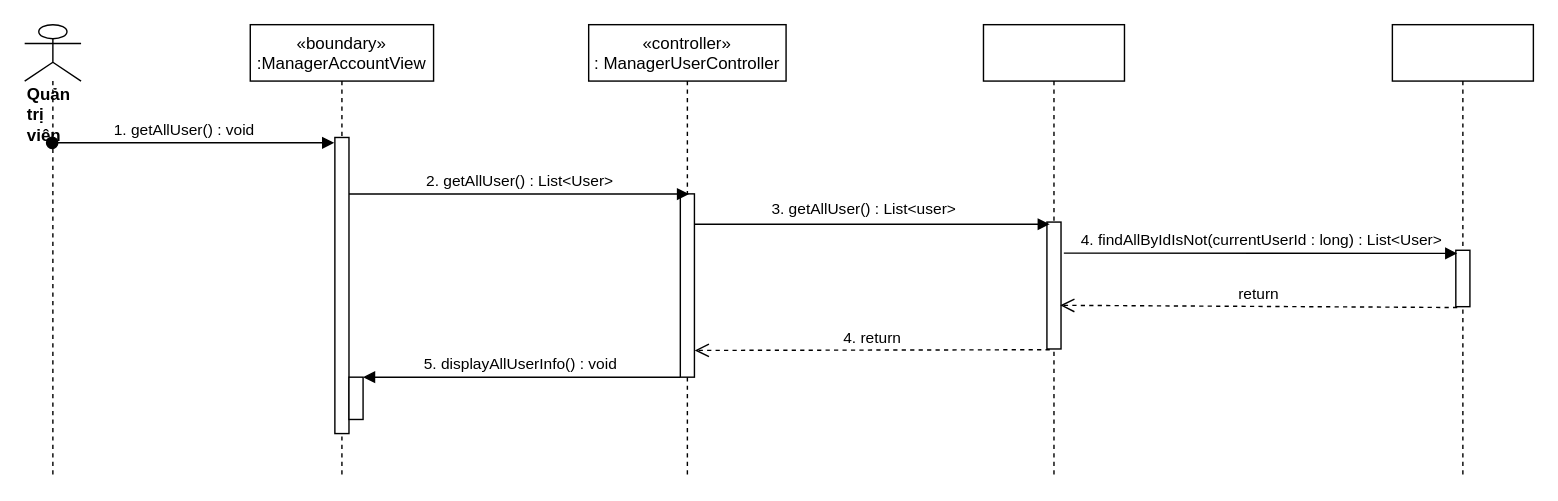
Some shapes in this 1558 by 501 pixel diagram are drawn without their labels. The centre of each missing label's shape, as x and y in pixels:
«entity» :User: the point at 1462,249
«service» :UserService: the point at 1053,249
